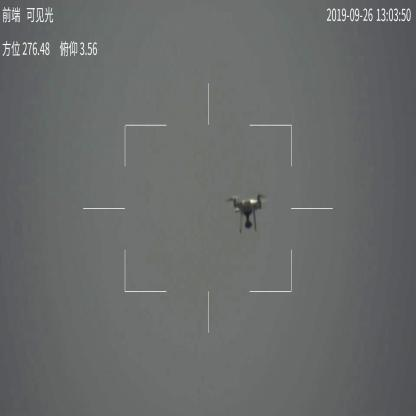uav: (224, 192, 268, 234)
